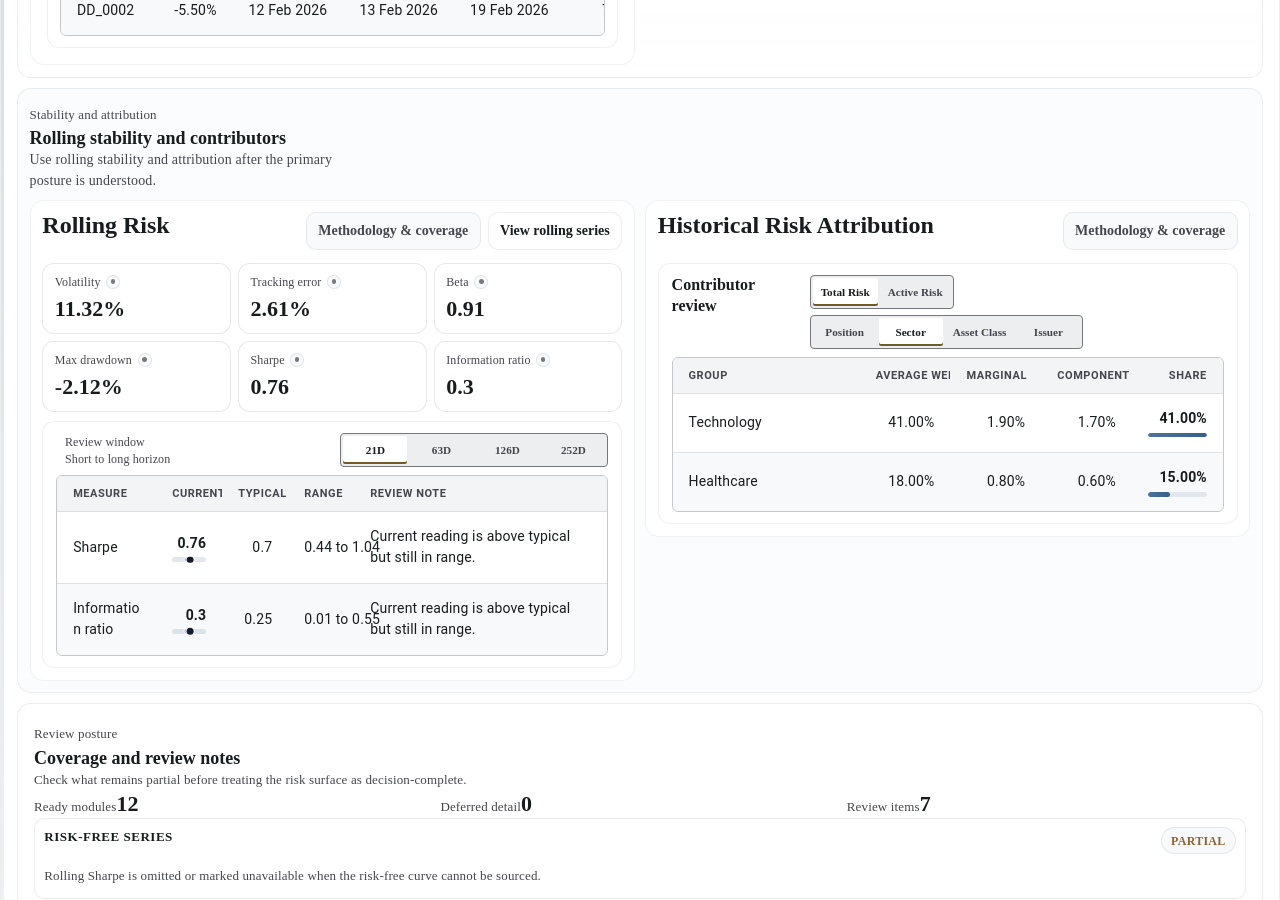
it: PerformanceRiskMode › preserves the selected rolling window when opening rolling series detail
(page scrolled)
Click the radio button labelled "63D" at (441, 450), box left=409, top=436, right=473, bottom=464
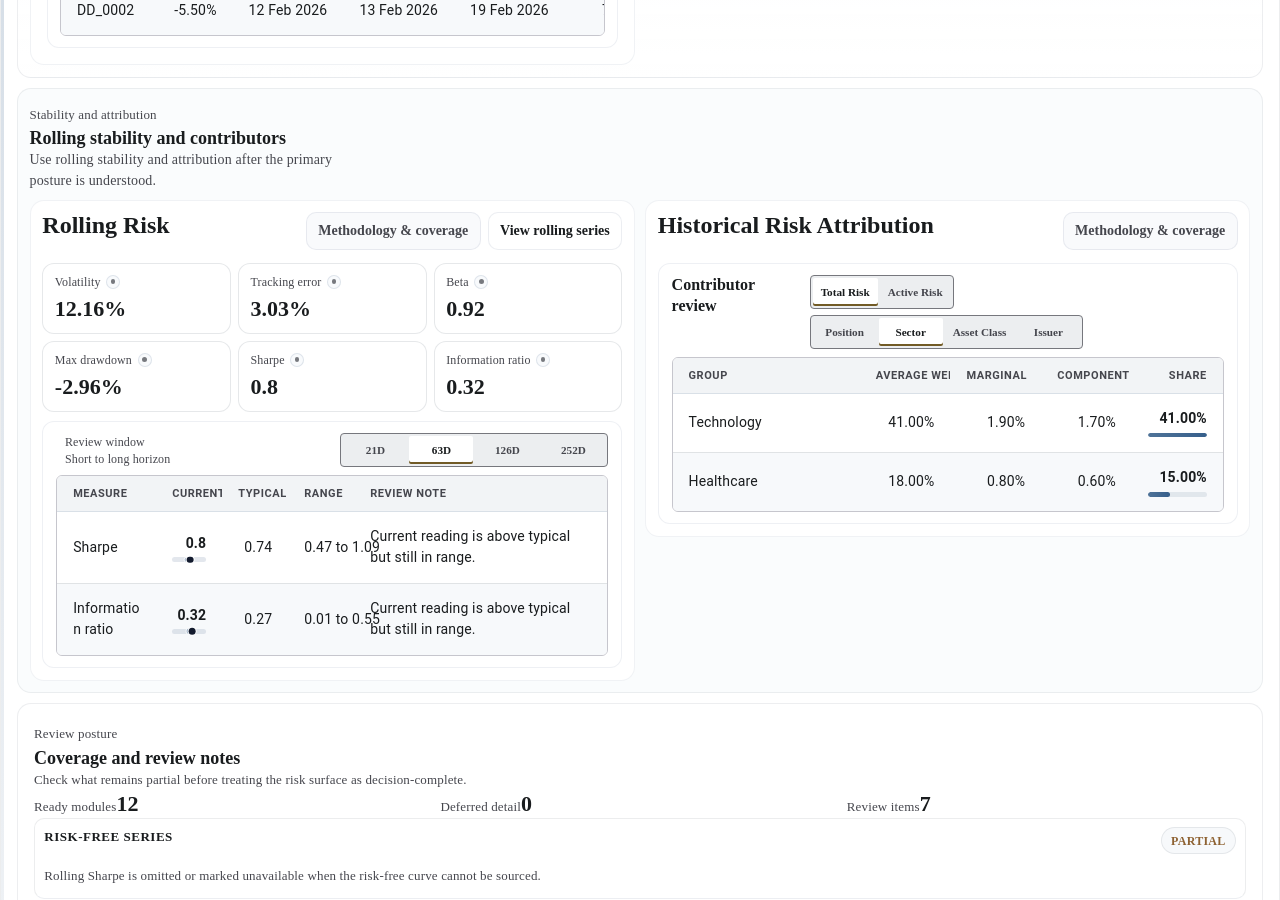
Click the button "View rolling series" at (555, 231), box left=488, top=212, right=622, bottom=250
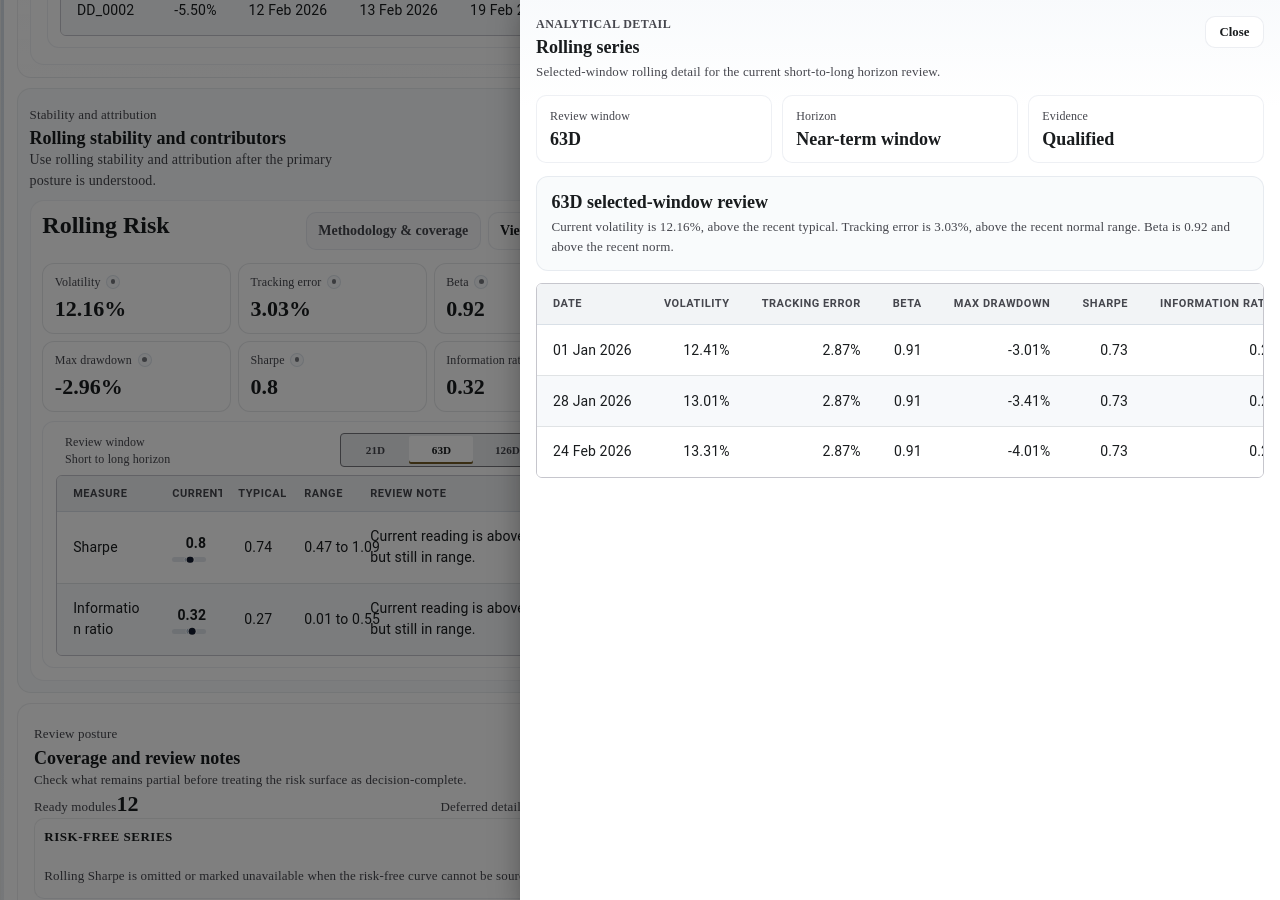
Expected: the dialog named "Rolling series detail" is shown, left=520, top=0, right=1279, bottom=899
Expected: the text "Review window" is shown, left=550, top=109, right=630, bottom=123
Expected: the heading "63D" is shown, left=550, top=129, right=581, bottom=149
